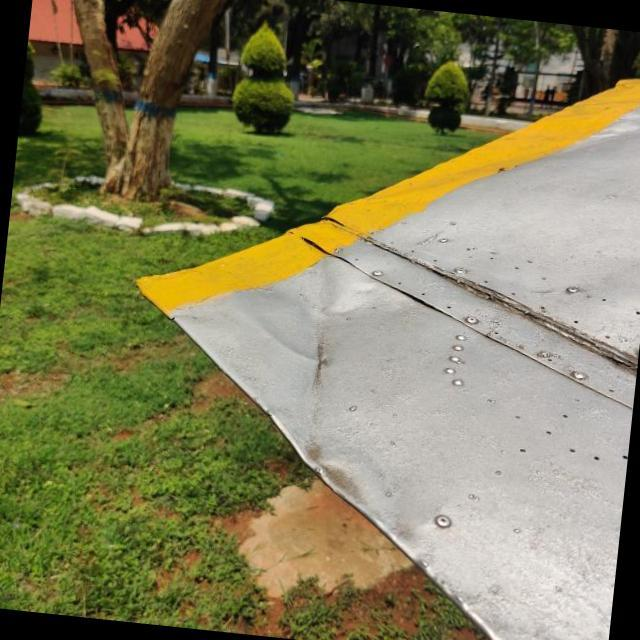Dent: (276, 411, 382, 521)
